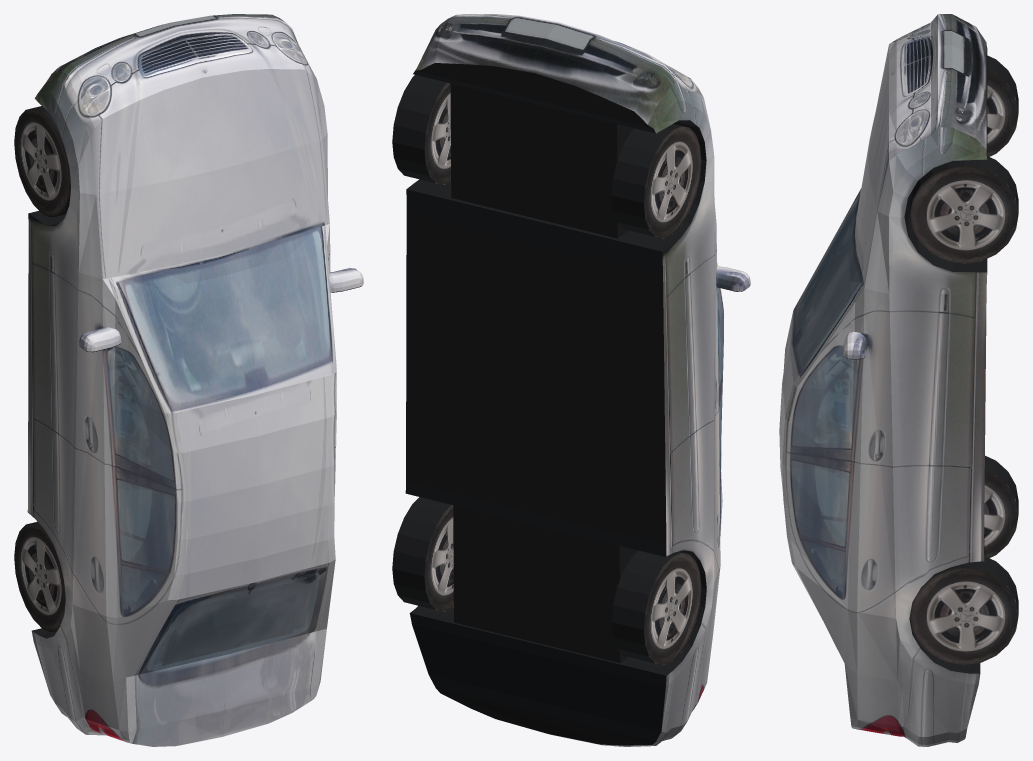
The model's file is mbclass.obj.
The picture shows the model from 3 angles, left to right: view 1: azimuth 30°, elevation 25°; view 2: azimuth 150°, elevation 25°; view 3: azimuth 270°, elevation 25°; orthographic projection. The views are drawn at different scales.
Bounding box in the file's own units: 406 × 959 × 312.
